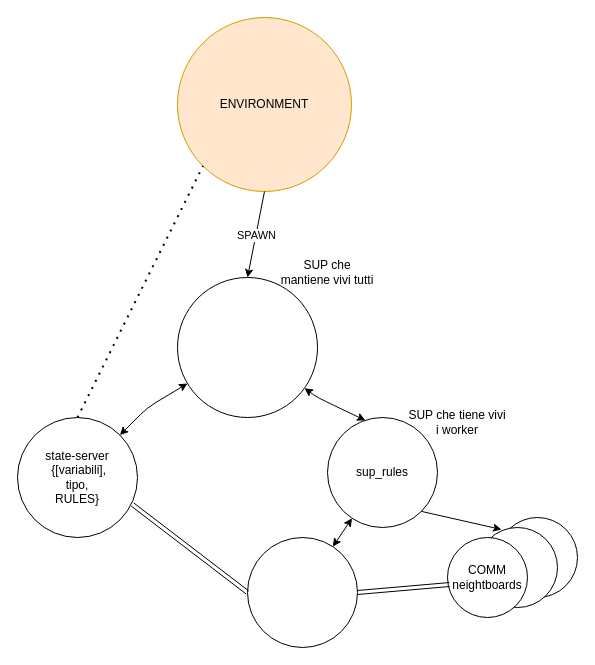
The diagram is 595 pixels wide and 665 high, and some of its shapes have lost their labels. The box of each missing label's shape, as (x1, y1, x2, y2) in pixels:
RULES_WORKER: (246, 536, 358, 648)
supervisor - nodo: (176, 276, 318, 418)
